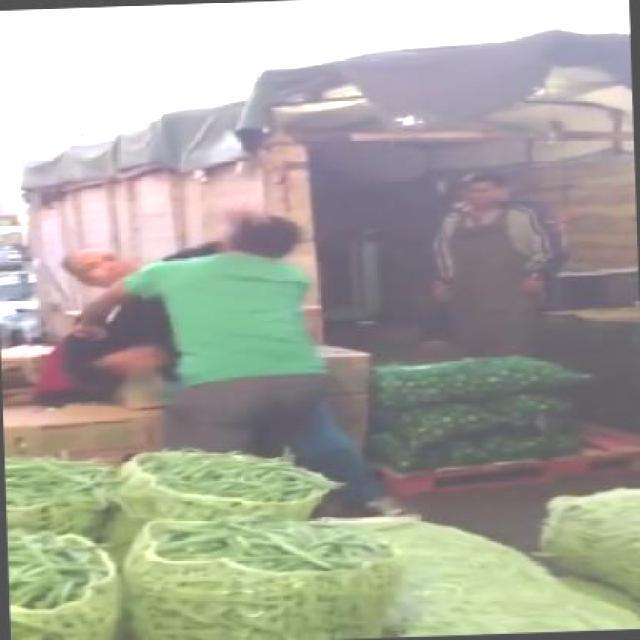fight: (65, 208, 342, 449)
non-fight: (422, 166, 568, 351)
